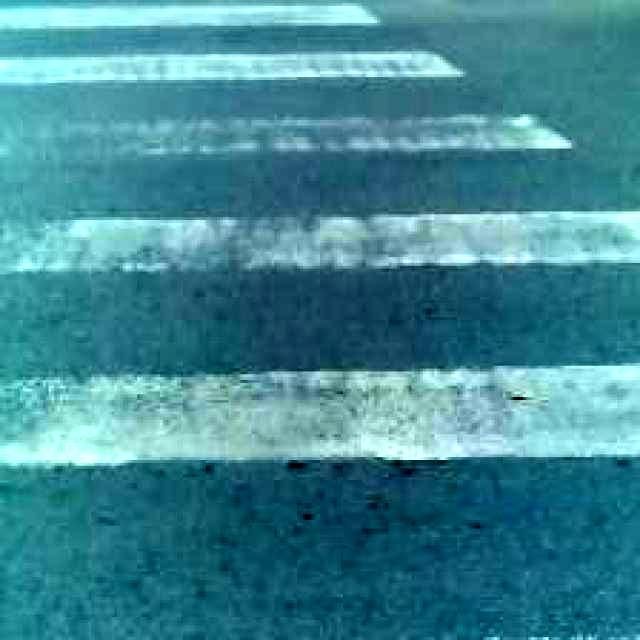crosswalk: (0, 0, 633, 480)
